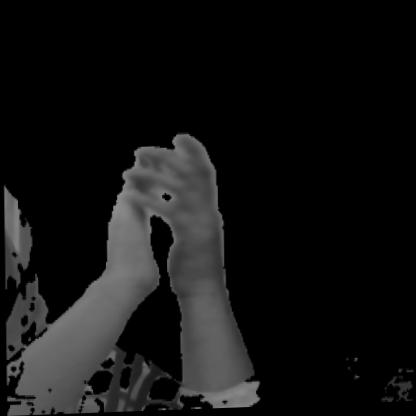clap: (84, 119, 247, 374)
